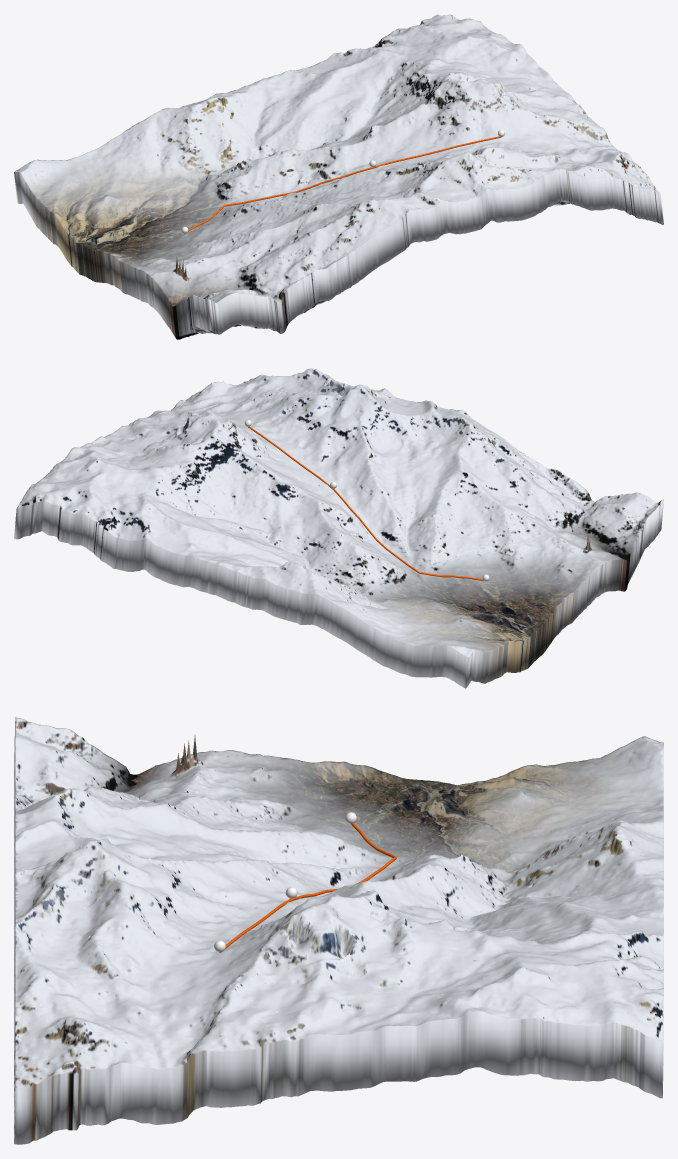
File: koth_nepal_web.glb
3 views of the same model, one above another, from view 1: azimuth 30°, elevation 25°; view 2: azimuth 150°, elevation 25°; view 3: azimuth 270°, elevation 25° (orthographic). The views are drawn at different scales.
Visible parts, largest first — view 1: EXPORT_GOOGLE_SAT_WM, RouteLine; view 2: EXPORT_GOOGLE_SAT_WM, RouteLine; view 3: EXPORT_GOOGLE_SAT_WM, RouteLine.
Boxes of the visible parts, box(x1,y1,x2,y2) form: EXPORT_GOOGLE_SAT_WM: box(14, 14, 663, 339); RouteLine: box(188, 136, 501, 231); EXPORT_GOOGLE_SAT_WM: box(14, 368, 663, 688); RouteLine: box(248, 426, 483, 580); EXPORT_GOOGLE_SAT_WM: box(14, 717, 663, 1144); RouteLine: box(219, 822, 396, 952).
Size of the model in its own units: 14773 by 4223 by 11027.
3 materials, 1 textured.
